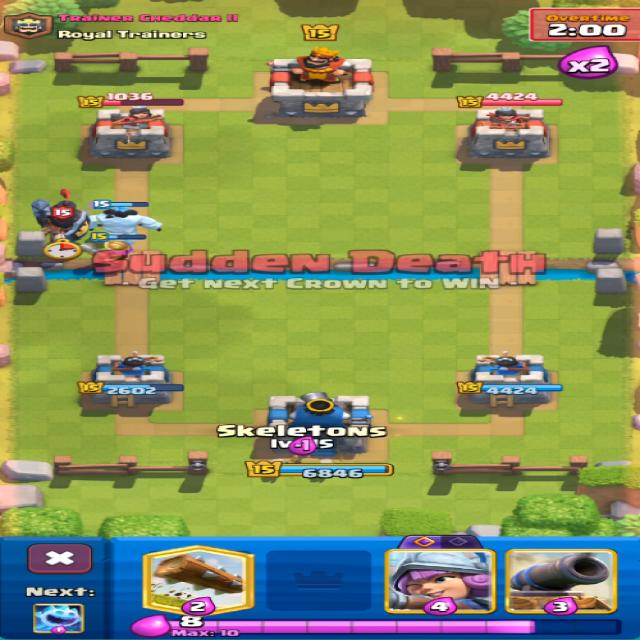Enemy-DarkPrince-Shield: (32, 190, 87, 242)
Enemy-KingTower: (269, 47, 372, 118)
Enemy-PrincessTower: (465, 107, 548, 164), (90, 105, 170, 159)
Player-IceGolem: (90, 208, 161, 235)
Player-KingTower-Activated: (257, 392, 385, 455)
Player-Musketeer: (81, 240, 131, 255)
Player-PrincessTower: (78, 352, 183, 409), (465, 355, 562, 406)
